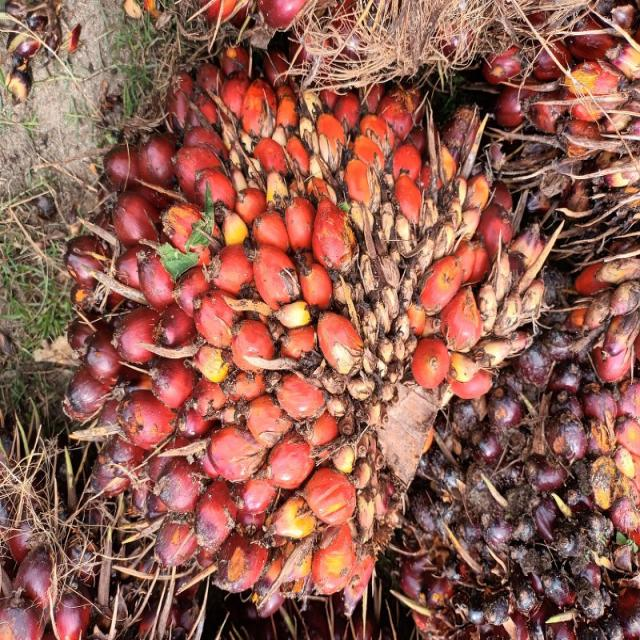fraksi 1: (110, 38, 615, 572)
